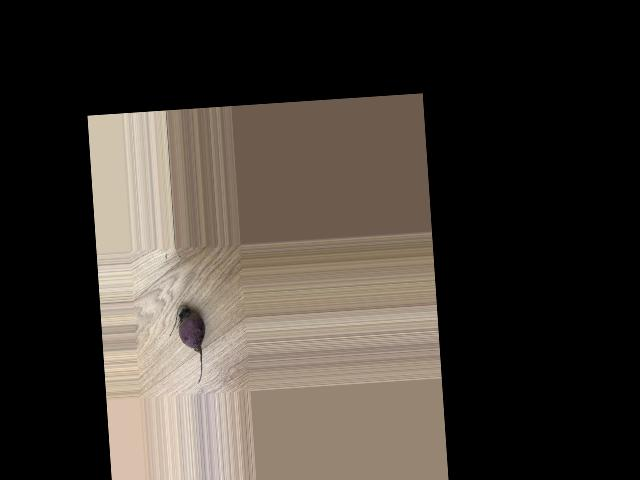beet: (168, 304, 209, 386)
